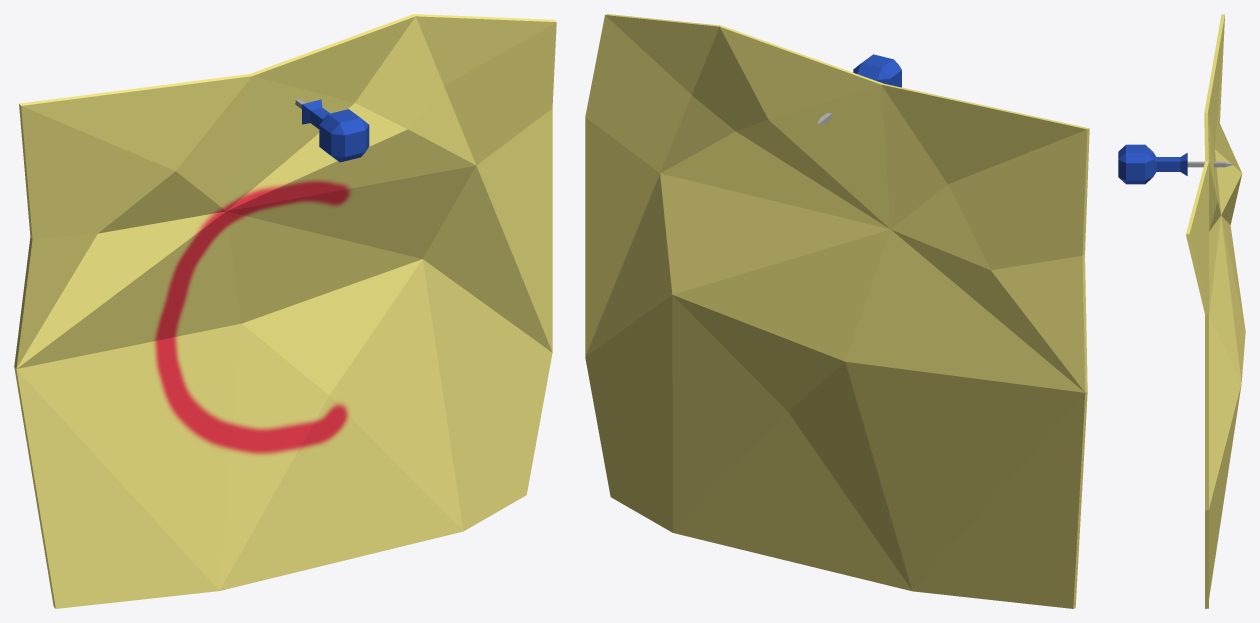
Rendered from Paper Letter C.fbx.
The picture shows the model from 3 angles, left to right: view 1: azimuth 30°, elevation 25°; view 2: azimuth 150°, elevation 25°; view 3: azimuth 270°, elevation 25°; orthographic projection. The views are drawn at different scales.
Parts seen in each view (by area): view 1: Papier, Punaise; view 2: Papier, Punaise; view 3: Papier, Punaise.
Part boxes in pixels (x1,y1,x2,y2): Papier: (14, 14, 556, 608); Punaise: (295, 99, 369, 162); Papier: (585, 14, 1089, 608); Punaise: (817, 54, 901, 124); Papier: (1186, 14, 1245, 608); Punaise: (1118, 144, 1233, 184).
Bounding box in the file's own units: 208 × 200 × 54.89.
